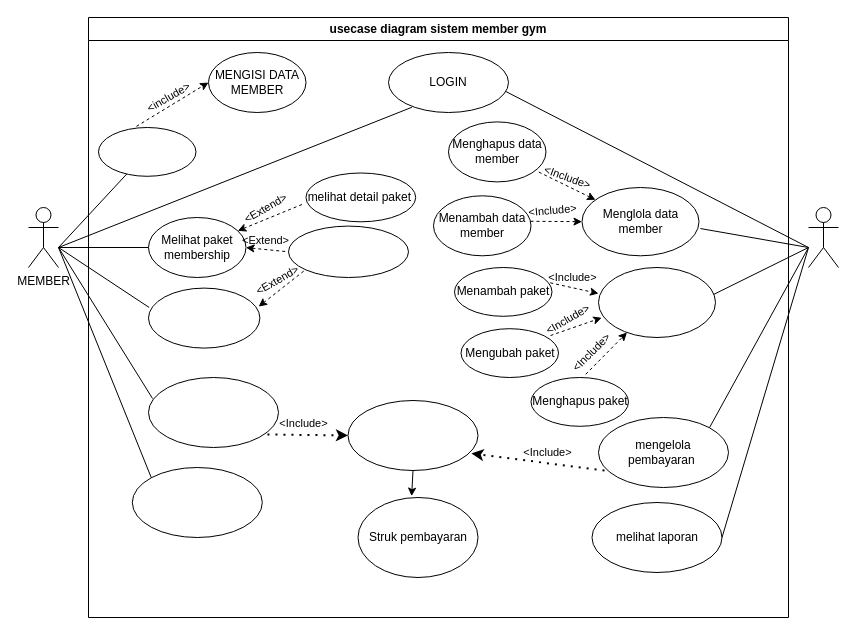
The diagram is 860 pixels wide and 635 high, and some of its shapes have lost their labels. Each missing label, with the centre of its shape:
ADMIN: the point at 823,237
Melakukan pembayaran: the point at 213,412
melihat riwayat pembayaran: the point at 196,502
Melihat status membership: the point at 204,317
Mendaftar member: the point at 147,151
Menglola paket membership: the point at 657,302
perpanjang/beli paket membership: the point at 348,251
verifikasi pembayaran: the point at 412,435
